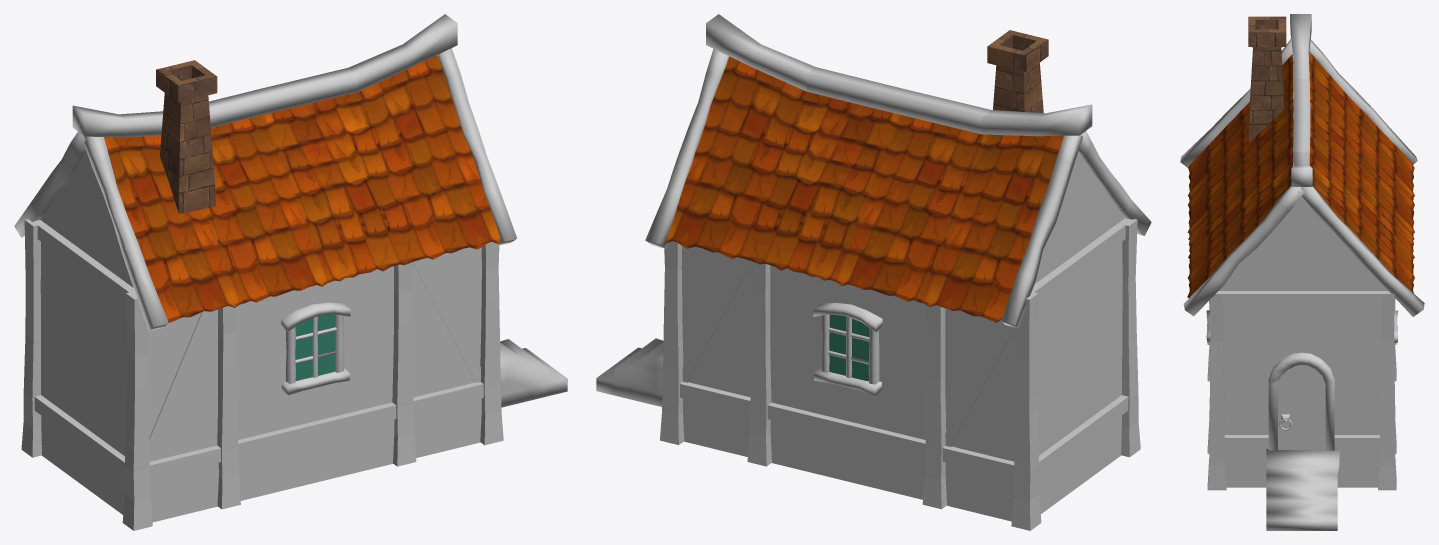
File: house1_before.fbx
The picture shows the model from 3 angles, left to right: view 1: azimuth 30°, elevation 25°; view 2: azimuth 150°, elevation 25°; view 3: azimuth 270°, elevation 25°; orthographic projection. The views are drawn at different scales.
Parts seen in each view (by area): view 1: Plane.001; view 2: Plane.001; view 3: Plane.001.
Part boxes in pixels (x1,y1,x2,y2): Plane.001: [14, 14, 567, 530]; Plane.001: [596, 14, 1151, 530]; Plane.001: [1180, 14, 1424, 530].
Bounding box in the file's own units: 14000 × 11720 × 7432.
